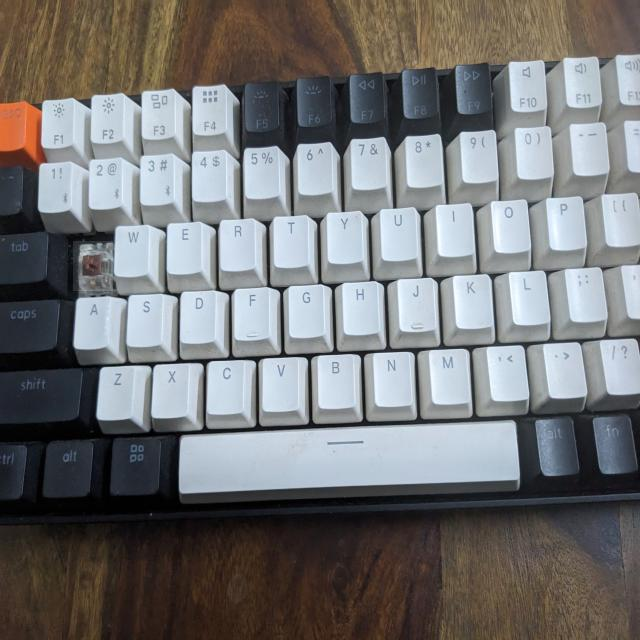C: (73, 242, 113, 292)
